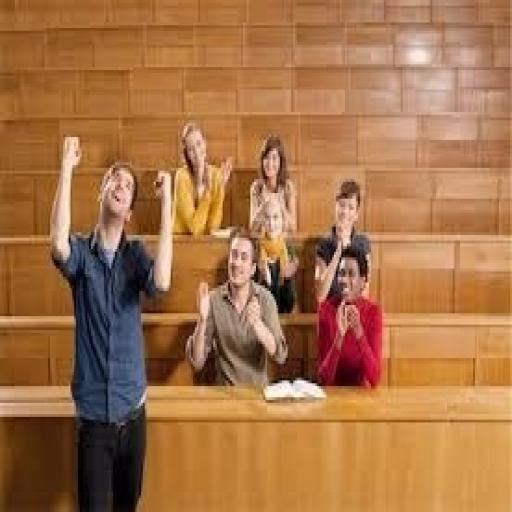clapping: (245, 129, 340, 327), (184, 227, 289, 389), (313, 232, 386, 389), (312, 176, 373, 305), (169, 117, 234, 238)
